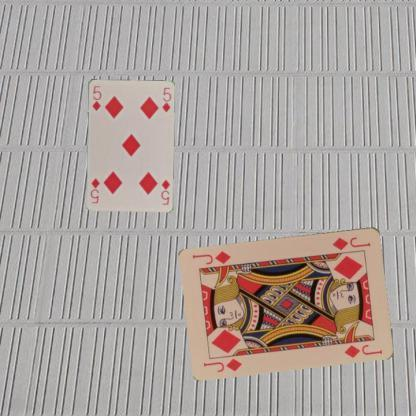5d: (158, 176, 170, 206), (90, 83, 102, 112)
Jd: (201, 356, 243, 374), (330, 234, 372, 251)
